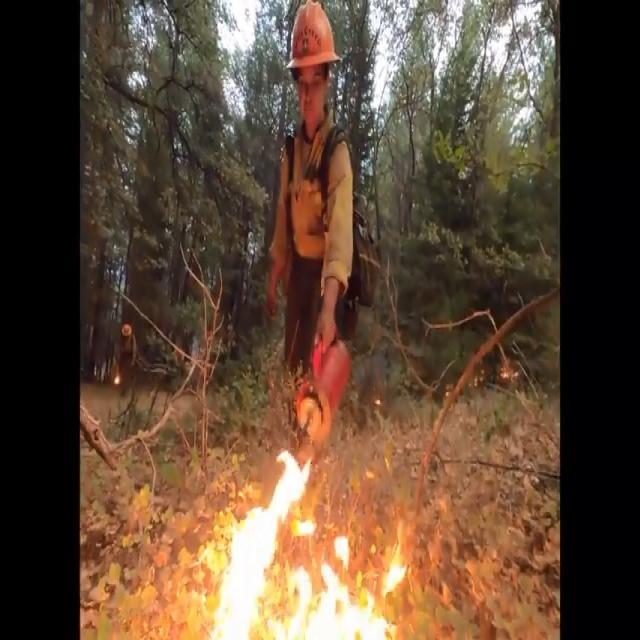Fire: (206, 450, 407, 640)
